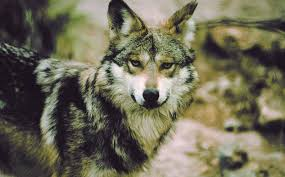Lobo: (73, 1, 208, 162)
